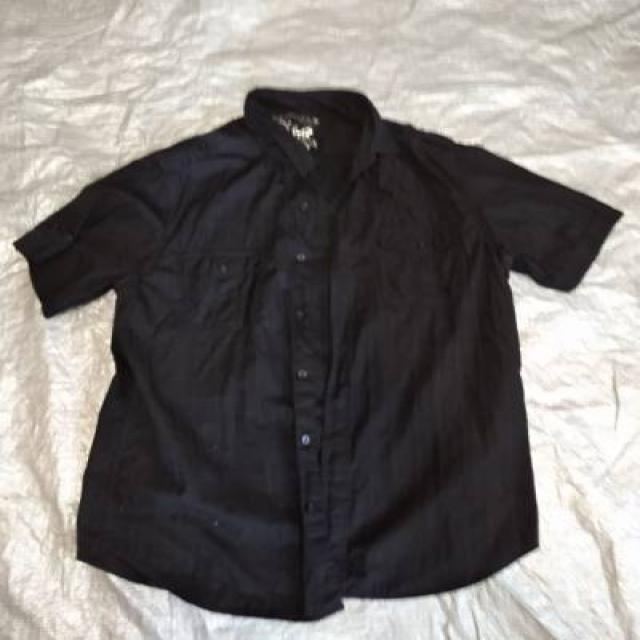Clothes -Biodegradable-: (16, 87, 627, 622)
